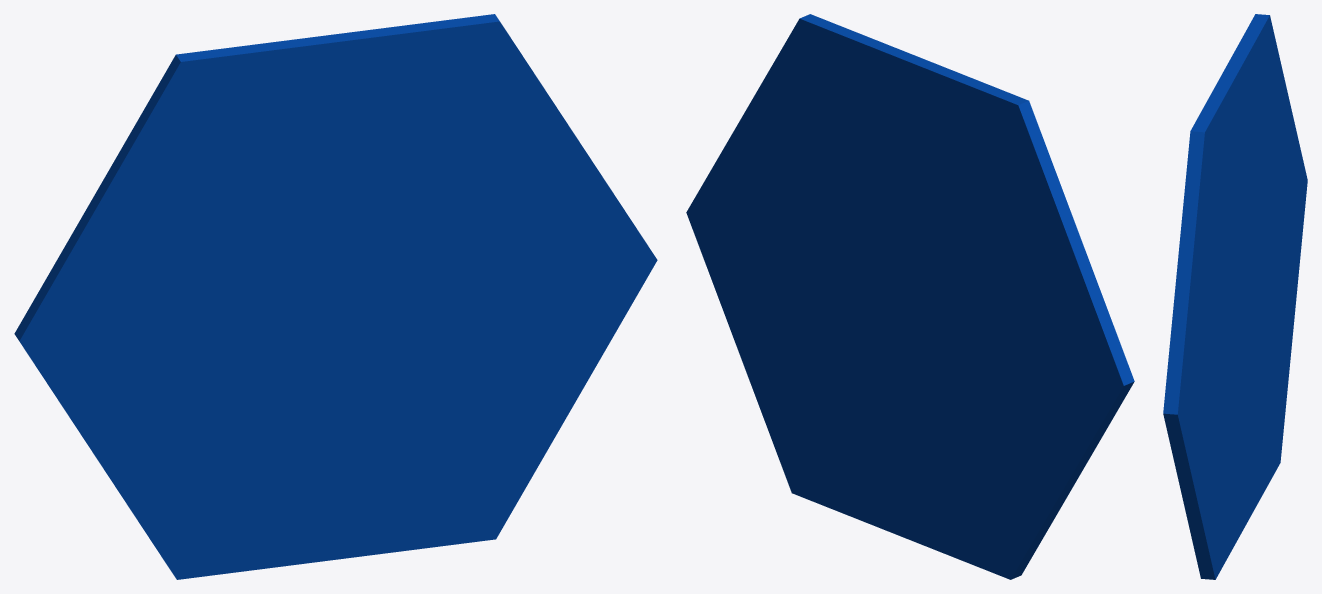
Rendered from hexagon.obj.
3 views of the same model, side by side, from view 1: azimuth 30°, elevation 25°; view 2: azimuth 150°, elevation 25°; view 3: azimuth 270°, elevation 25° (orthographic). The views are drawn at different scales.
Visible parts, largest first — view 1: group963751589; view 2: group963751589; view 3: group963751589.
Boxes of the visible parts, left/top/right/bottom form: group963751589: left=14, top=14, right=657, bottom=579; group963751589: left=686, top=14, right=1134, bottom=579; group963751589: left=1163, top=14, right=1307, bottom=579.
Size of the model in its own units: 0.1861 by 0.1647 by 0.0483.
